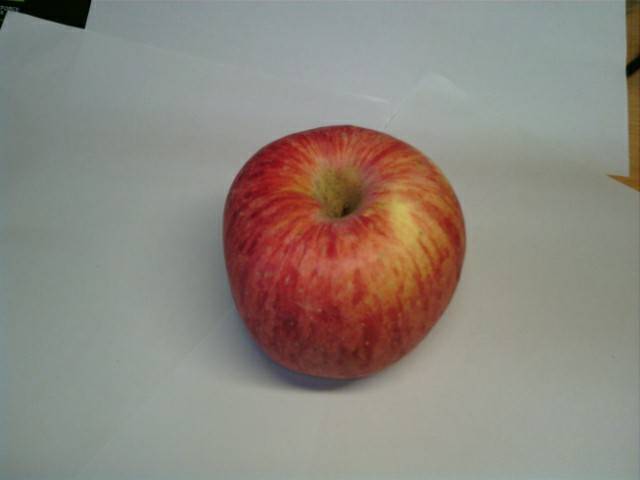normal_apple: (221, 126, 465, 381)
